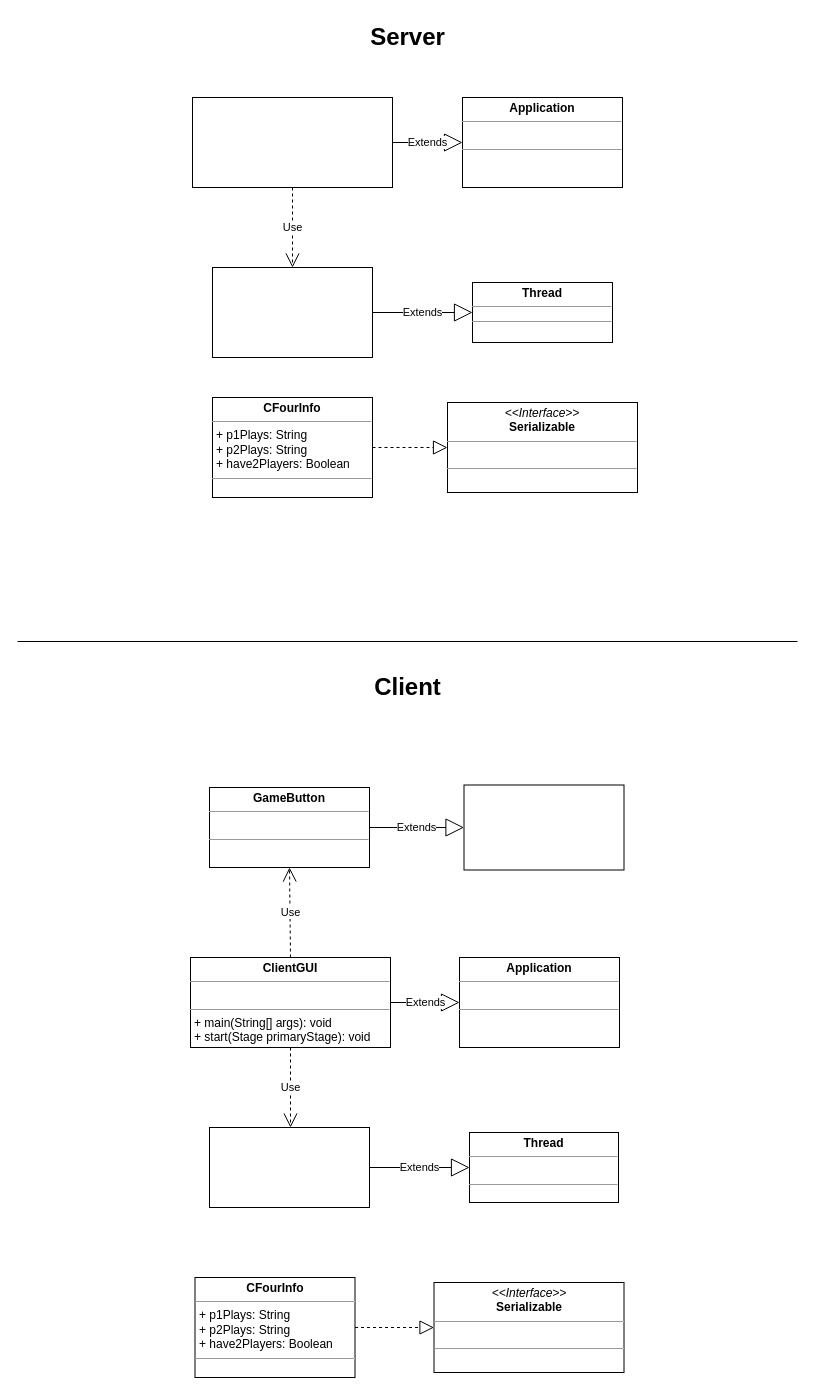
Some shapes in this 815 by 1395 pixel diagram are drawn without their labels. Here are the shapes that lost their labels. From the top down, the centre of each, then its label:
At pixel 292 142: "ServerGUI + main(String[] args): void + start(Stage primaryStage): void".
At pixel 292 312: "Server + run(): void".
At pixel 543 827: "Button".
At pixel 289 1167: "Client + run(): void".
